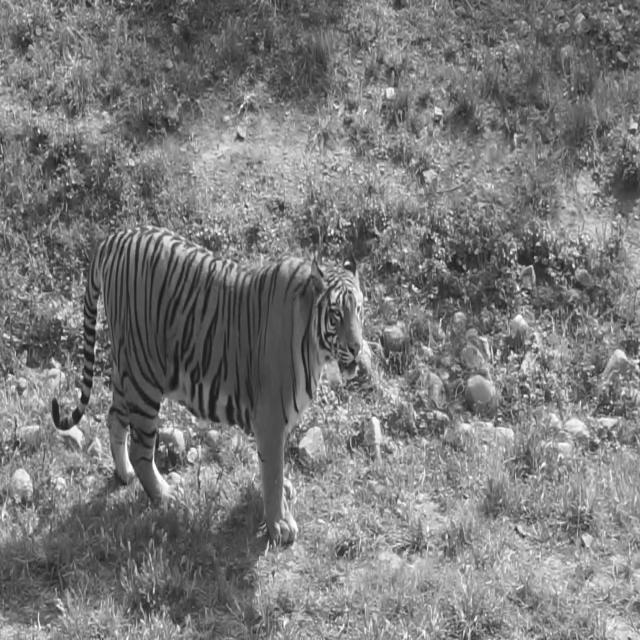Tiger: (51, 222, 364, 549)
